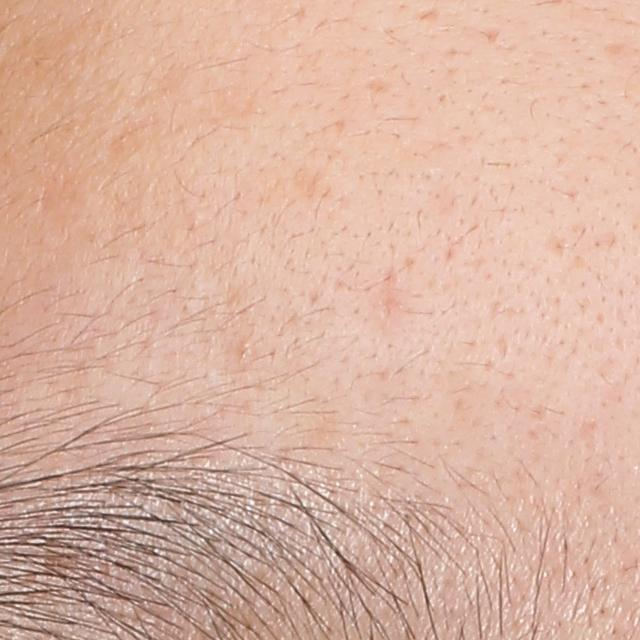atrophic_scar: (576, 418, 603, 458), (360, 74, 397, 98), (493, 331, 511, 364)
